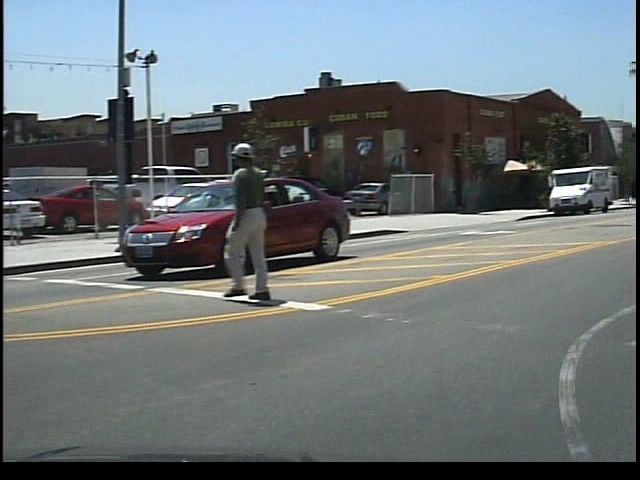person: (223, 141, 303, 309)
